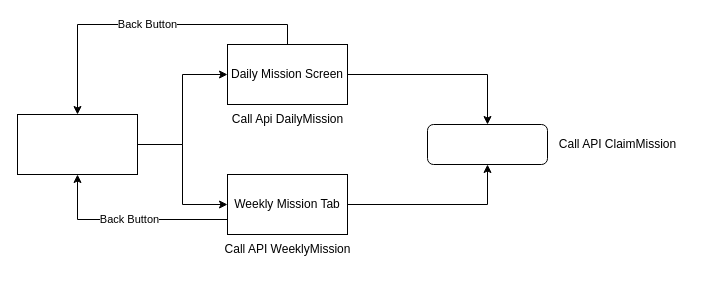
Some shapes in this 705 by 282 pixel diagram are drawn without their labels. Each missing label, with the centre of its shape:
"Claim Button" belongs at (x=487, y=144).
"Home Screen" belongs at (x=77, y=144).
